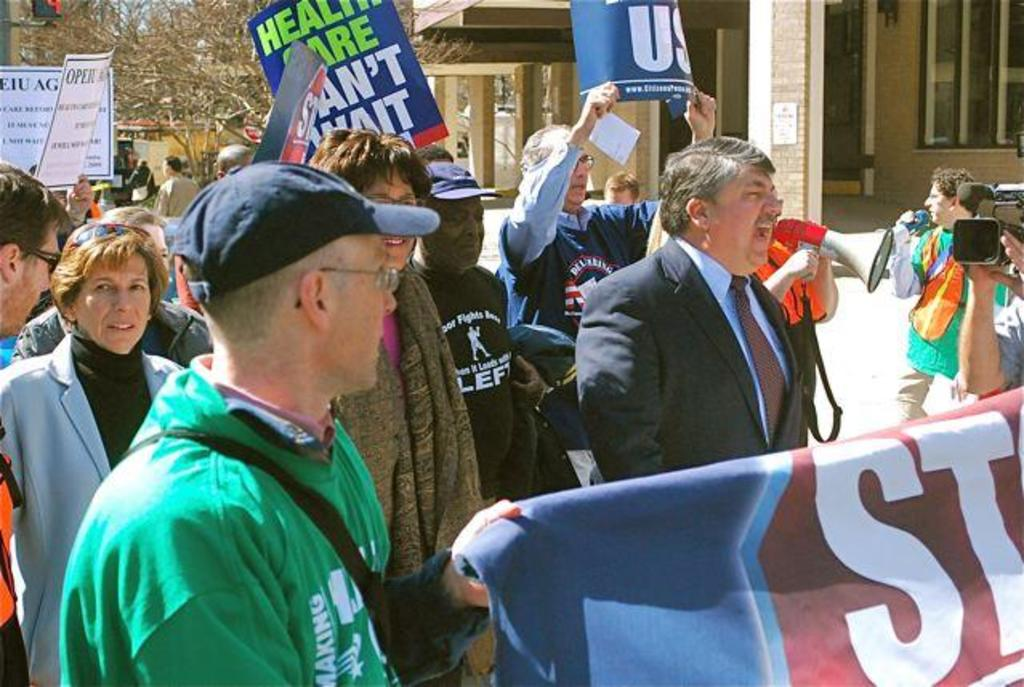face: (292, 227, 399, 374)
